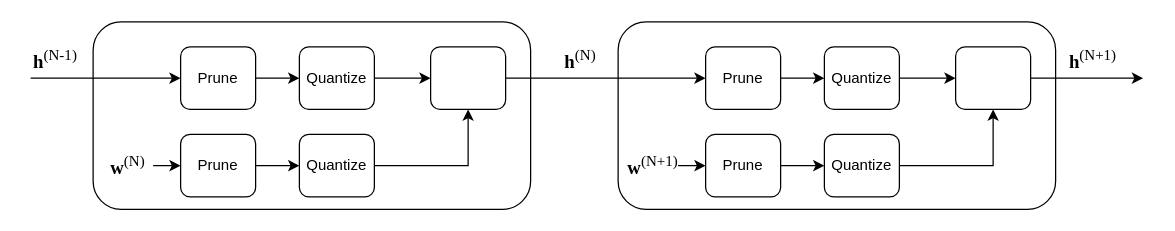
The diagram is 1175 pixels wide and 231 high, and some of its shapes have lost their labels. The centre of each missing label's shape, as x and y in pixels:
L ( N ): pixel 467 77
L ( N+ 1 ): pixel 992 77
